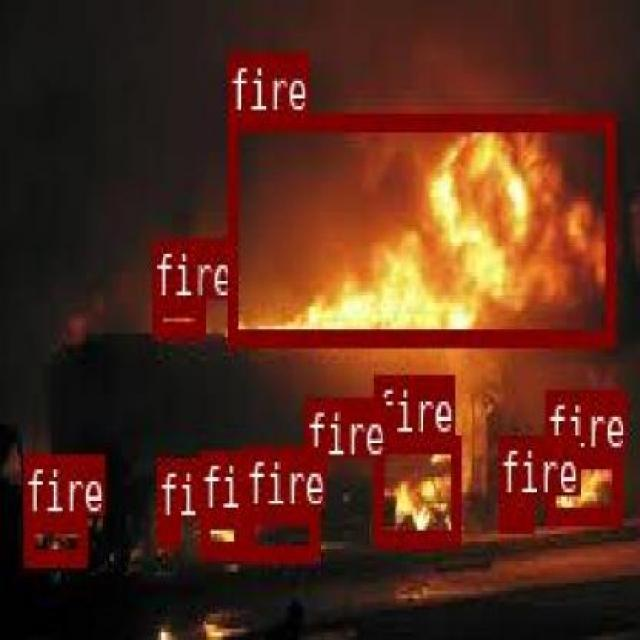fire: (228, 110, 614, 344), (372, 434, 458, 542), (544, 447, 620, 521), (244, 506, 318, 560), (23, 514, 85, 562), (196, 510, 242, 553), (150, 298, 203, 334), (497, 496, 531, 530), (154, 518, 178, 546), (304, 457, 324, 477)
